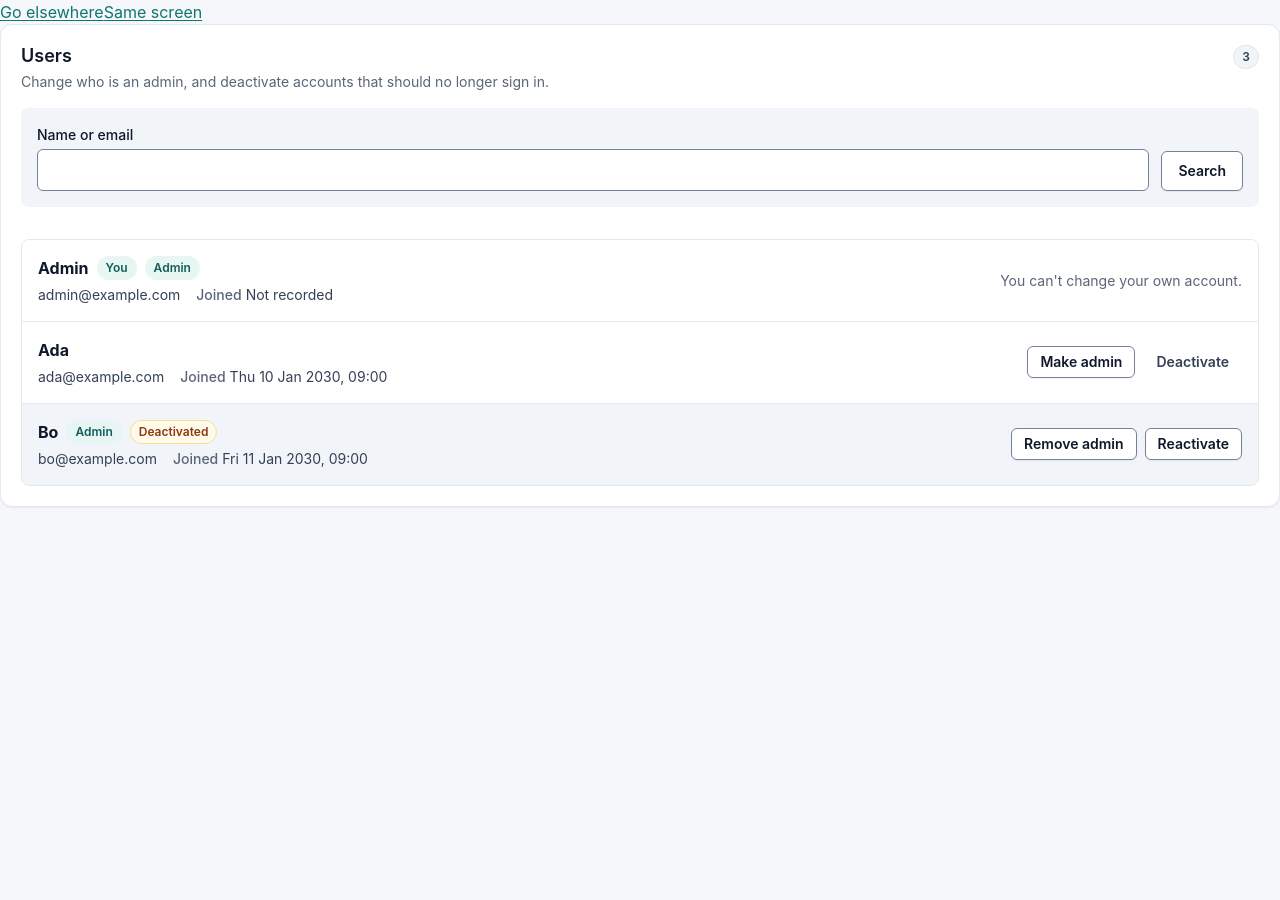
Scenario: AdminUsersPage › deactivates a user, saying their reservations are kept
Click the button with aria-label "Deactivate Ada": click(1193, 362) left=1143, top=346, right=1242, bottom=378
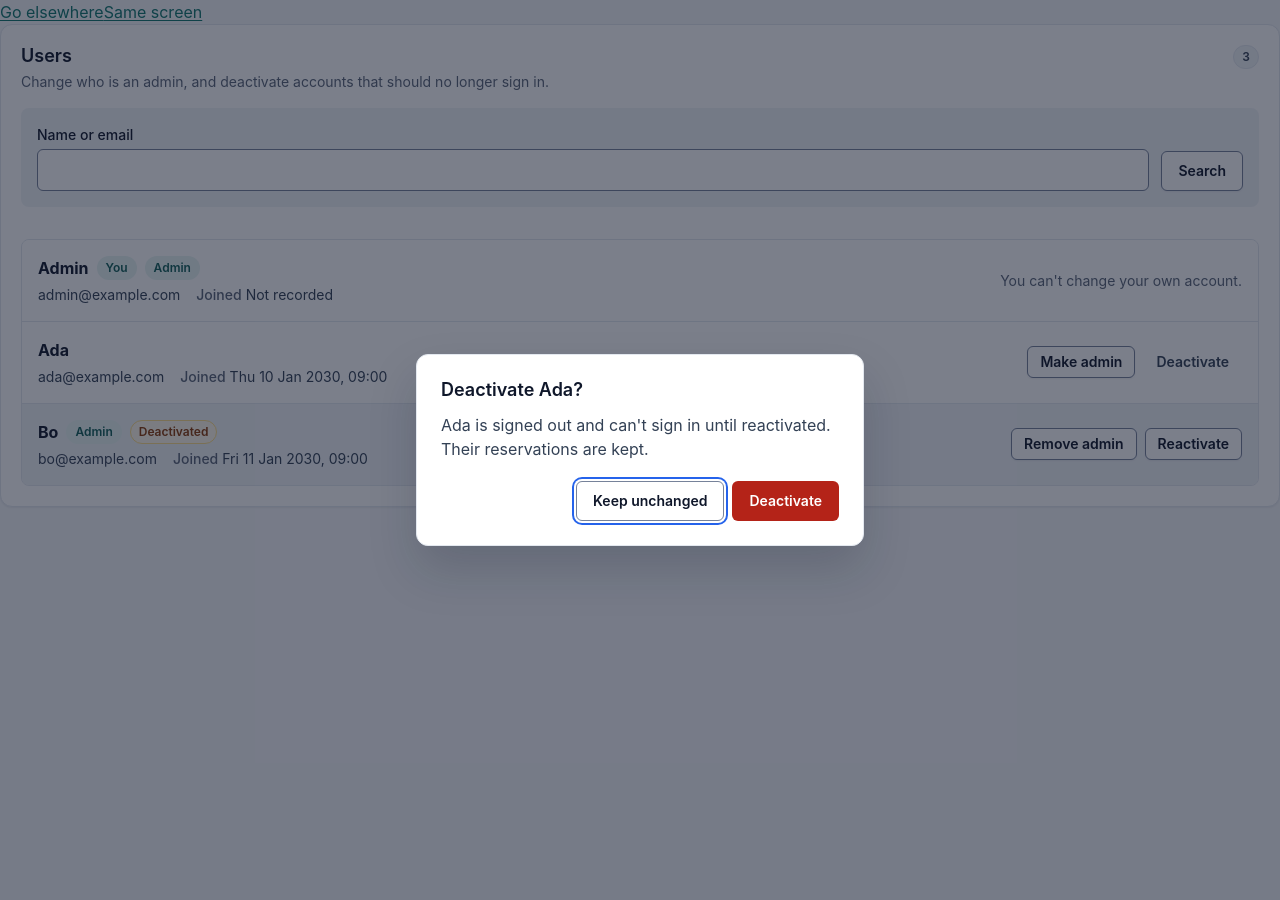
Click the button "Deactivate": click(786, 501) left=732, top=481, right=839, bottom=521
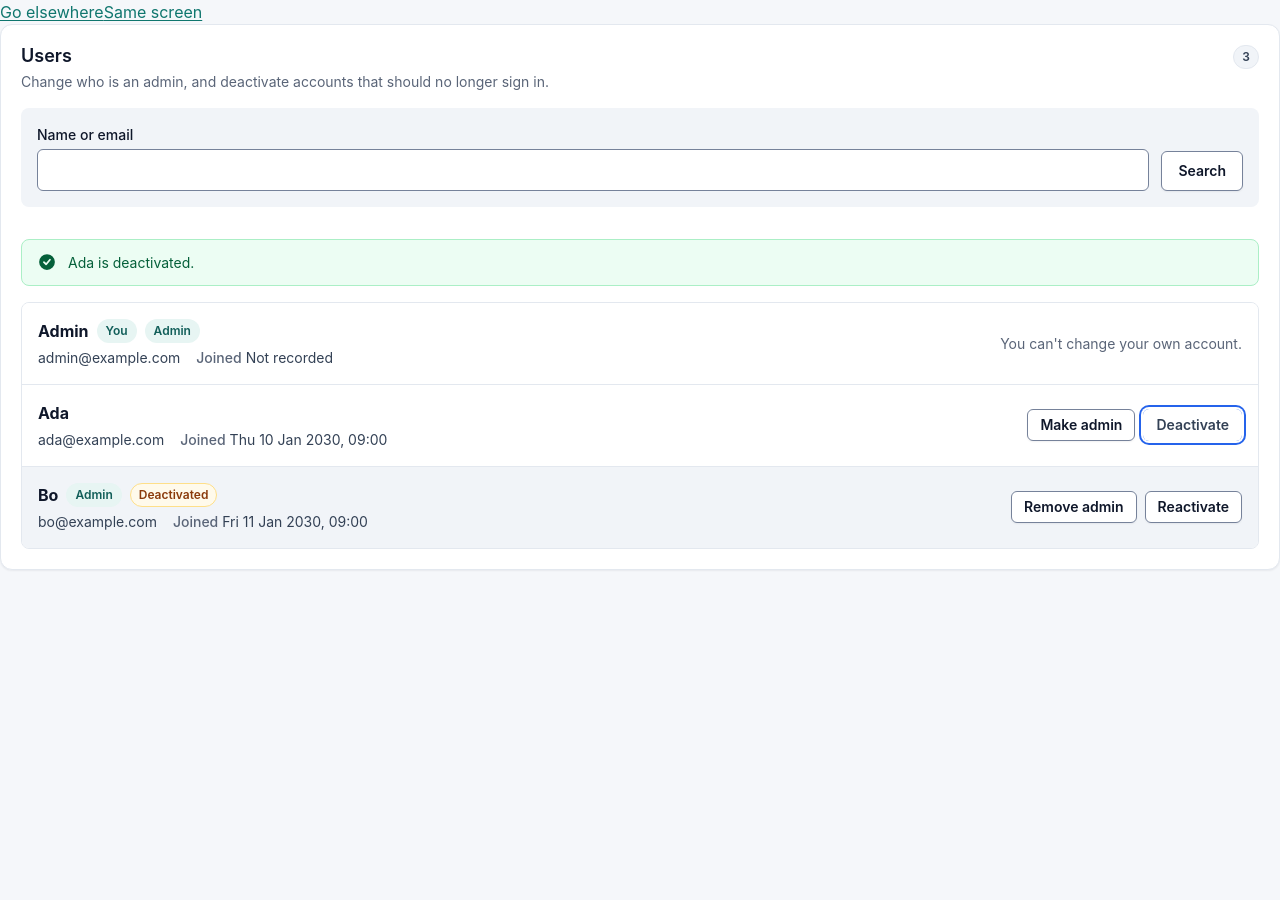
Expected: the text "Ada is deactivated." is shown, left=68, top=252, right=194, bottom=273
